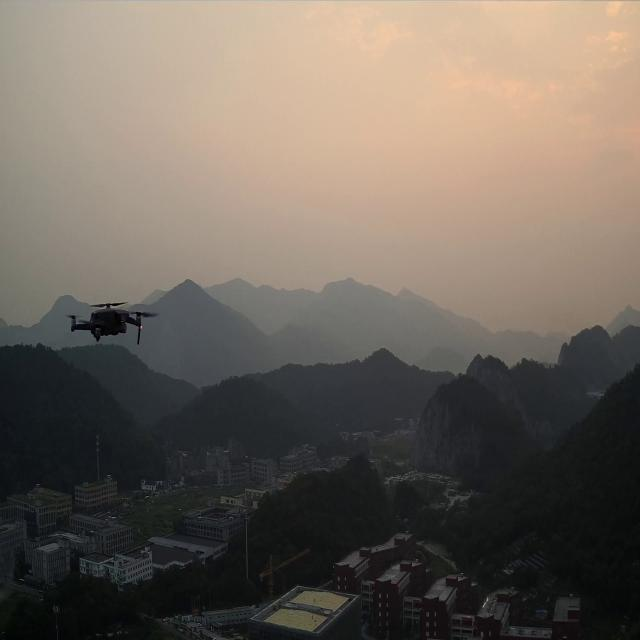UAV: (65, 300, 162, 350)
